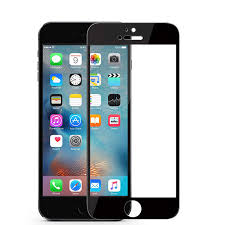iphone: (33, 19, 132, 221)
iphone6: (34, 20, 133, 222)
